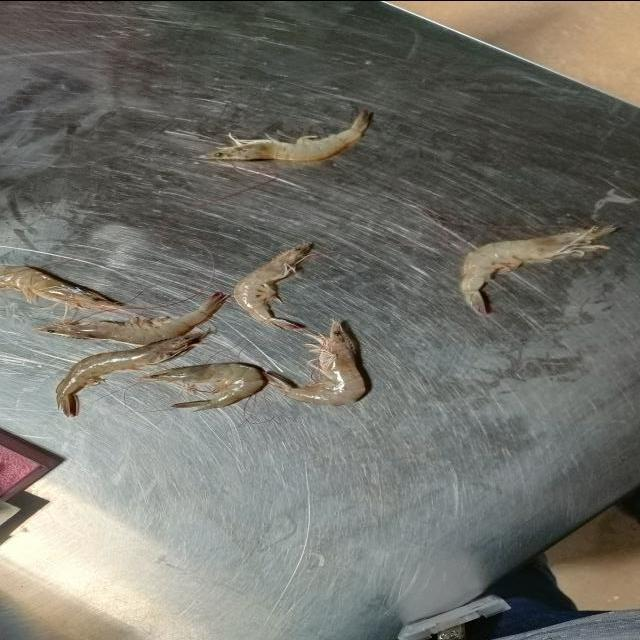shrimp: (460, 225, 615, 314), (55, 331, 210, 416), (35, 291, 228, 345), (201, 109, 370, 160), (266, 321, 365, 405), (235, 241, 317, 329), (139, 361, 268, 410), (0, 265, 122, 310)
